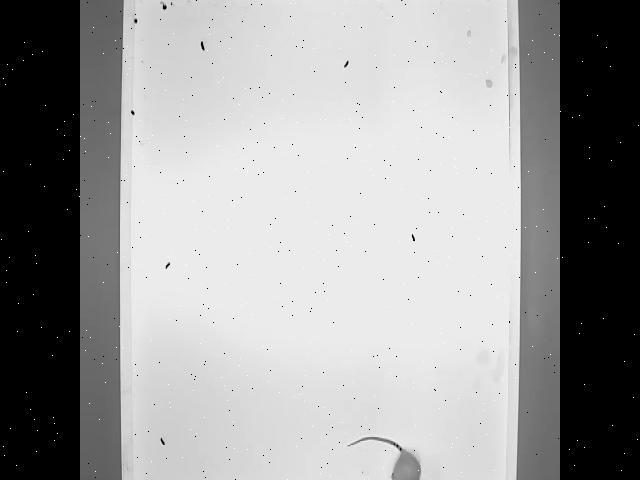Tikus: (342, 429, 422, 480)
